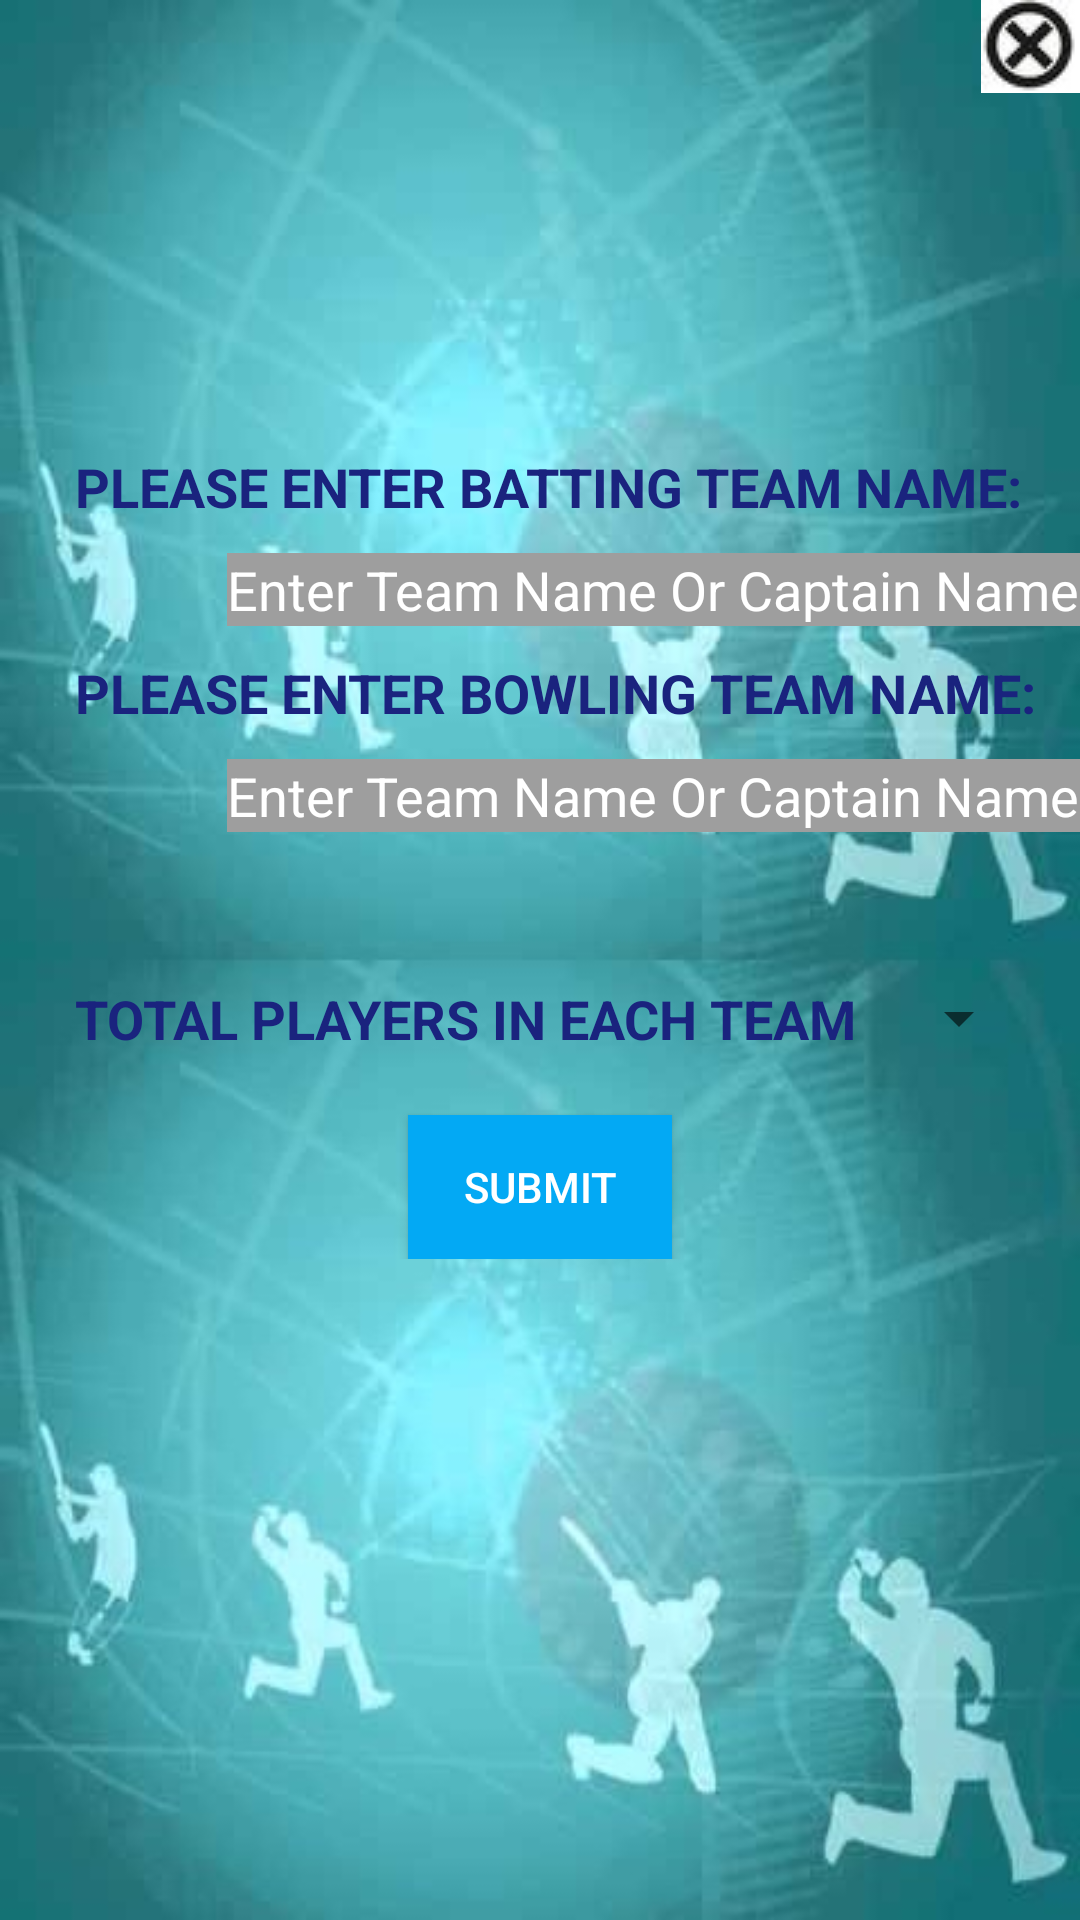

Icons on this 1080 × 1920 Android screen, each with the point to tap as (x=x, y=y):
close: (x=1030, y=46)
